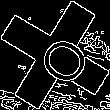O_NW: (22, 23, 88, 87)
